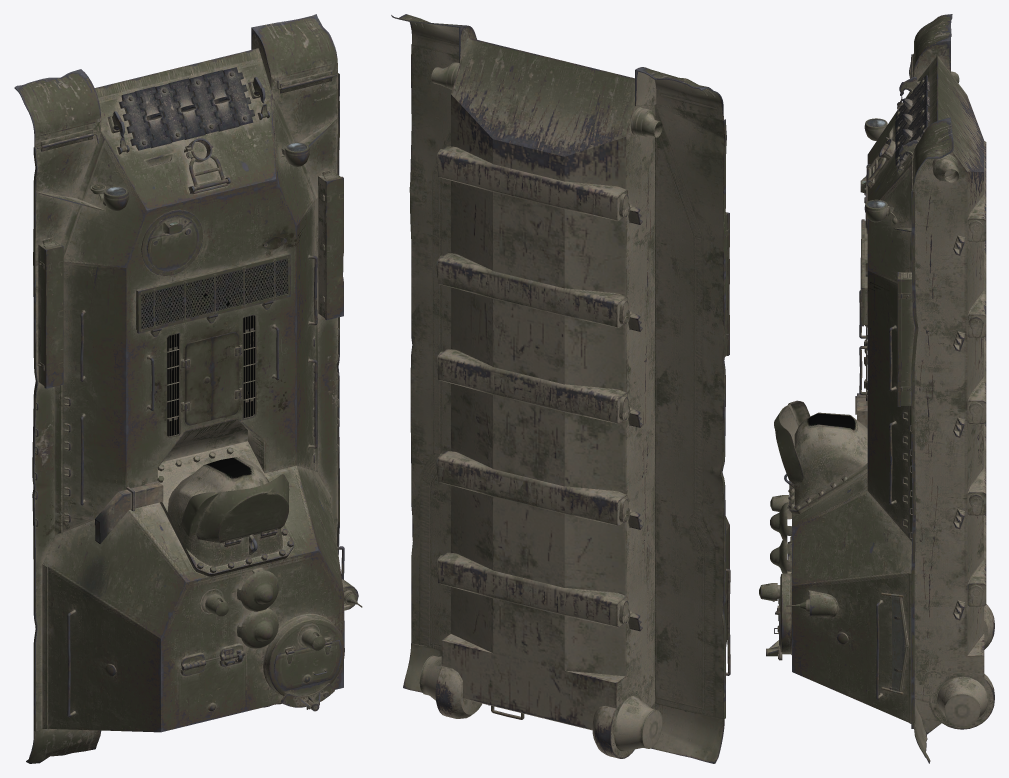
File: Hull.glb
3 renders of one model, left to right at view 1: azimuth 30°, elevation 25°; view 2: azimuth 150°, elevation 25°; view 3: azimuth 270°, elevation 25°, orthographic. The views are drawn at different scales.
Parts seen in each view (by area): view 1: set_0_group_0; view 2: set_0_group_0; view 3: set_0_group_0.
Boxes of the visible parts, x1,y1,x2,y2 form: set_0_group_0: [14, 14, 362, 763]; set_0_group_0: [391, 14, 730, 763]; set_0_group_0: [759, 14, 994, 763].
Bounding box in the file's own units: 3.01 × 6.31 × 2.18.
Materials: 1 (1 with a texture image).
